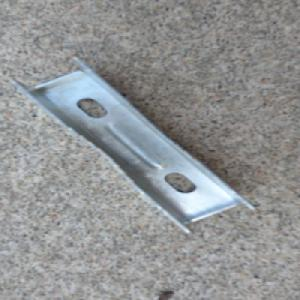ClampPart: (7, 55, 257, 236)
